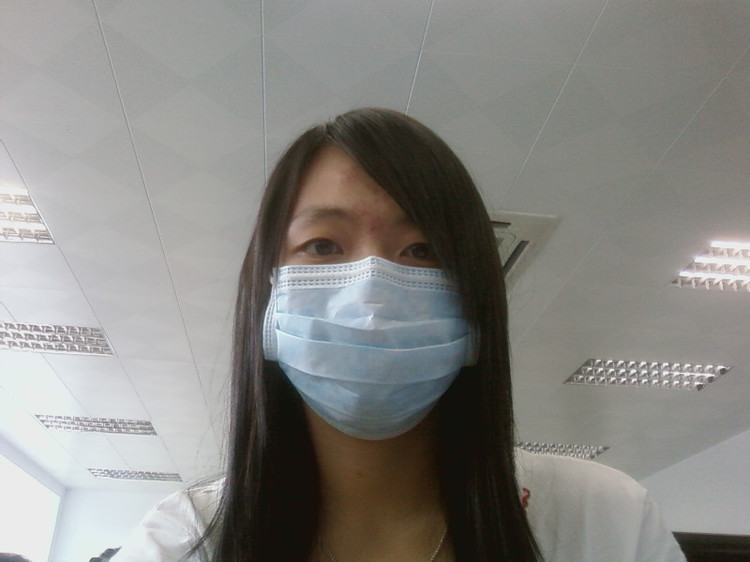face_mask: (261, 138, 488, 404)
